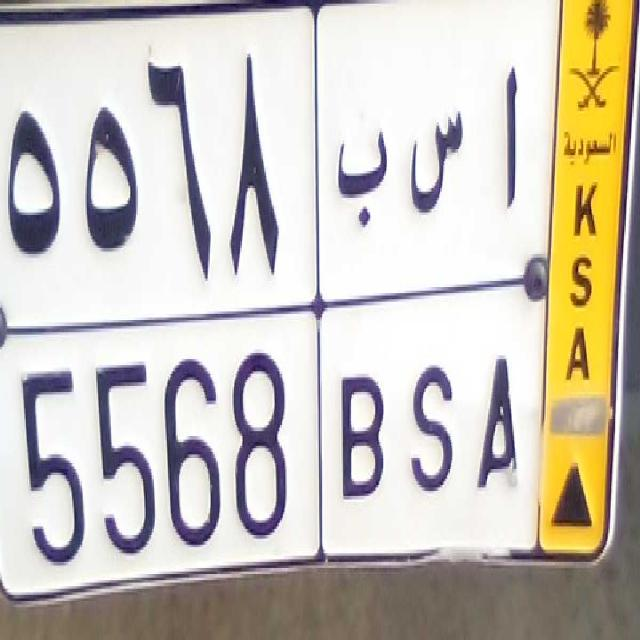license_plate: (3, 295, 542, 584)
